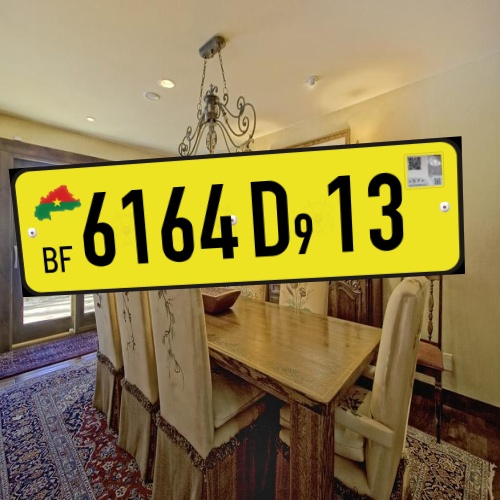plate: (5, 125, 475, 301)
